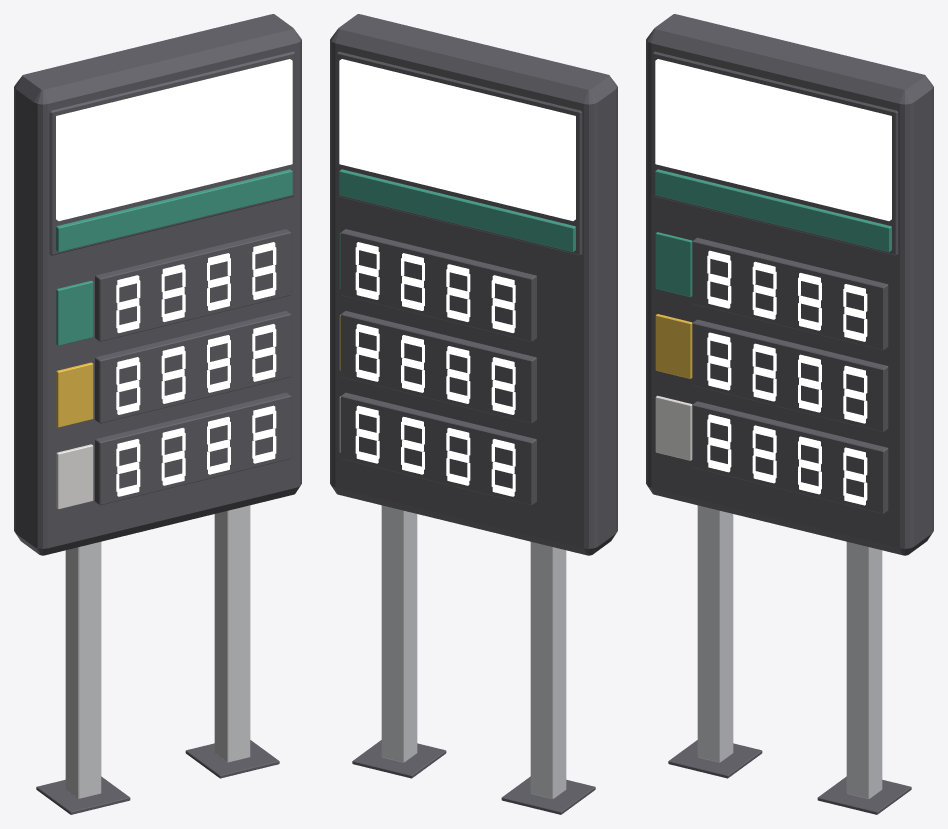
Rendered from petrol-station-and-forecourt-shop-price-totem-sign-6d5c4b7e__33945.glb.
3 renders of one model, left to right at view 1: azimuth 30°, elevation 25°; view 2: azimuth 150°, elevation 25°; view 3: azimuth 330°, elevation 25°, orthographic.
Visible parts, largest first — view 1: price-totem-sign; view 2: price-totem-sign; view 3: price-totem-sign.
Boxes of the visible parts, box(x1,y1,x2,y2) form: price-totem-sign: box(14, 14, 301, 814); price-totem-sign: box(330, 14, 617, 814); price-totem-sign: box(646, 14, 933, 814).
Size of the model in its own units: 1.5 by 3.9 by 0.414.
